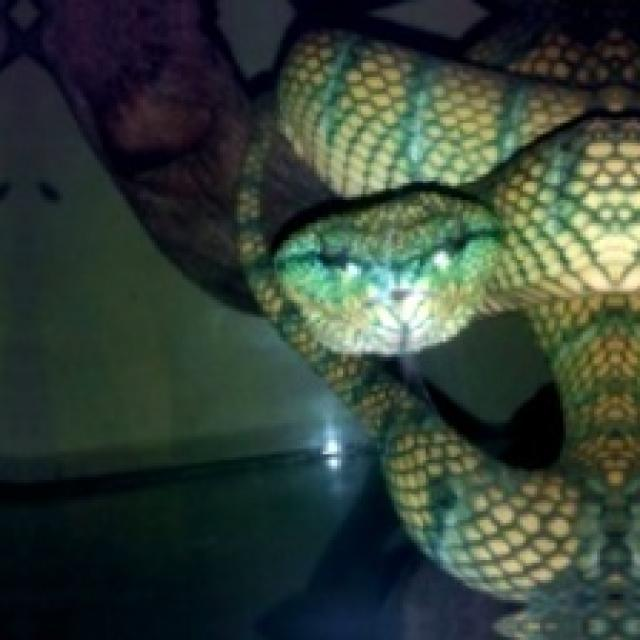north ph temple pitviper: (237, 0, 637, 637)
